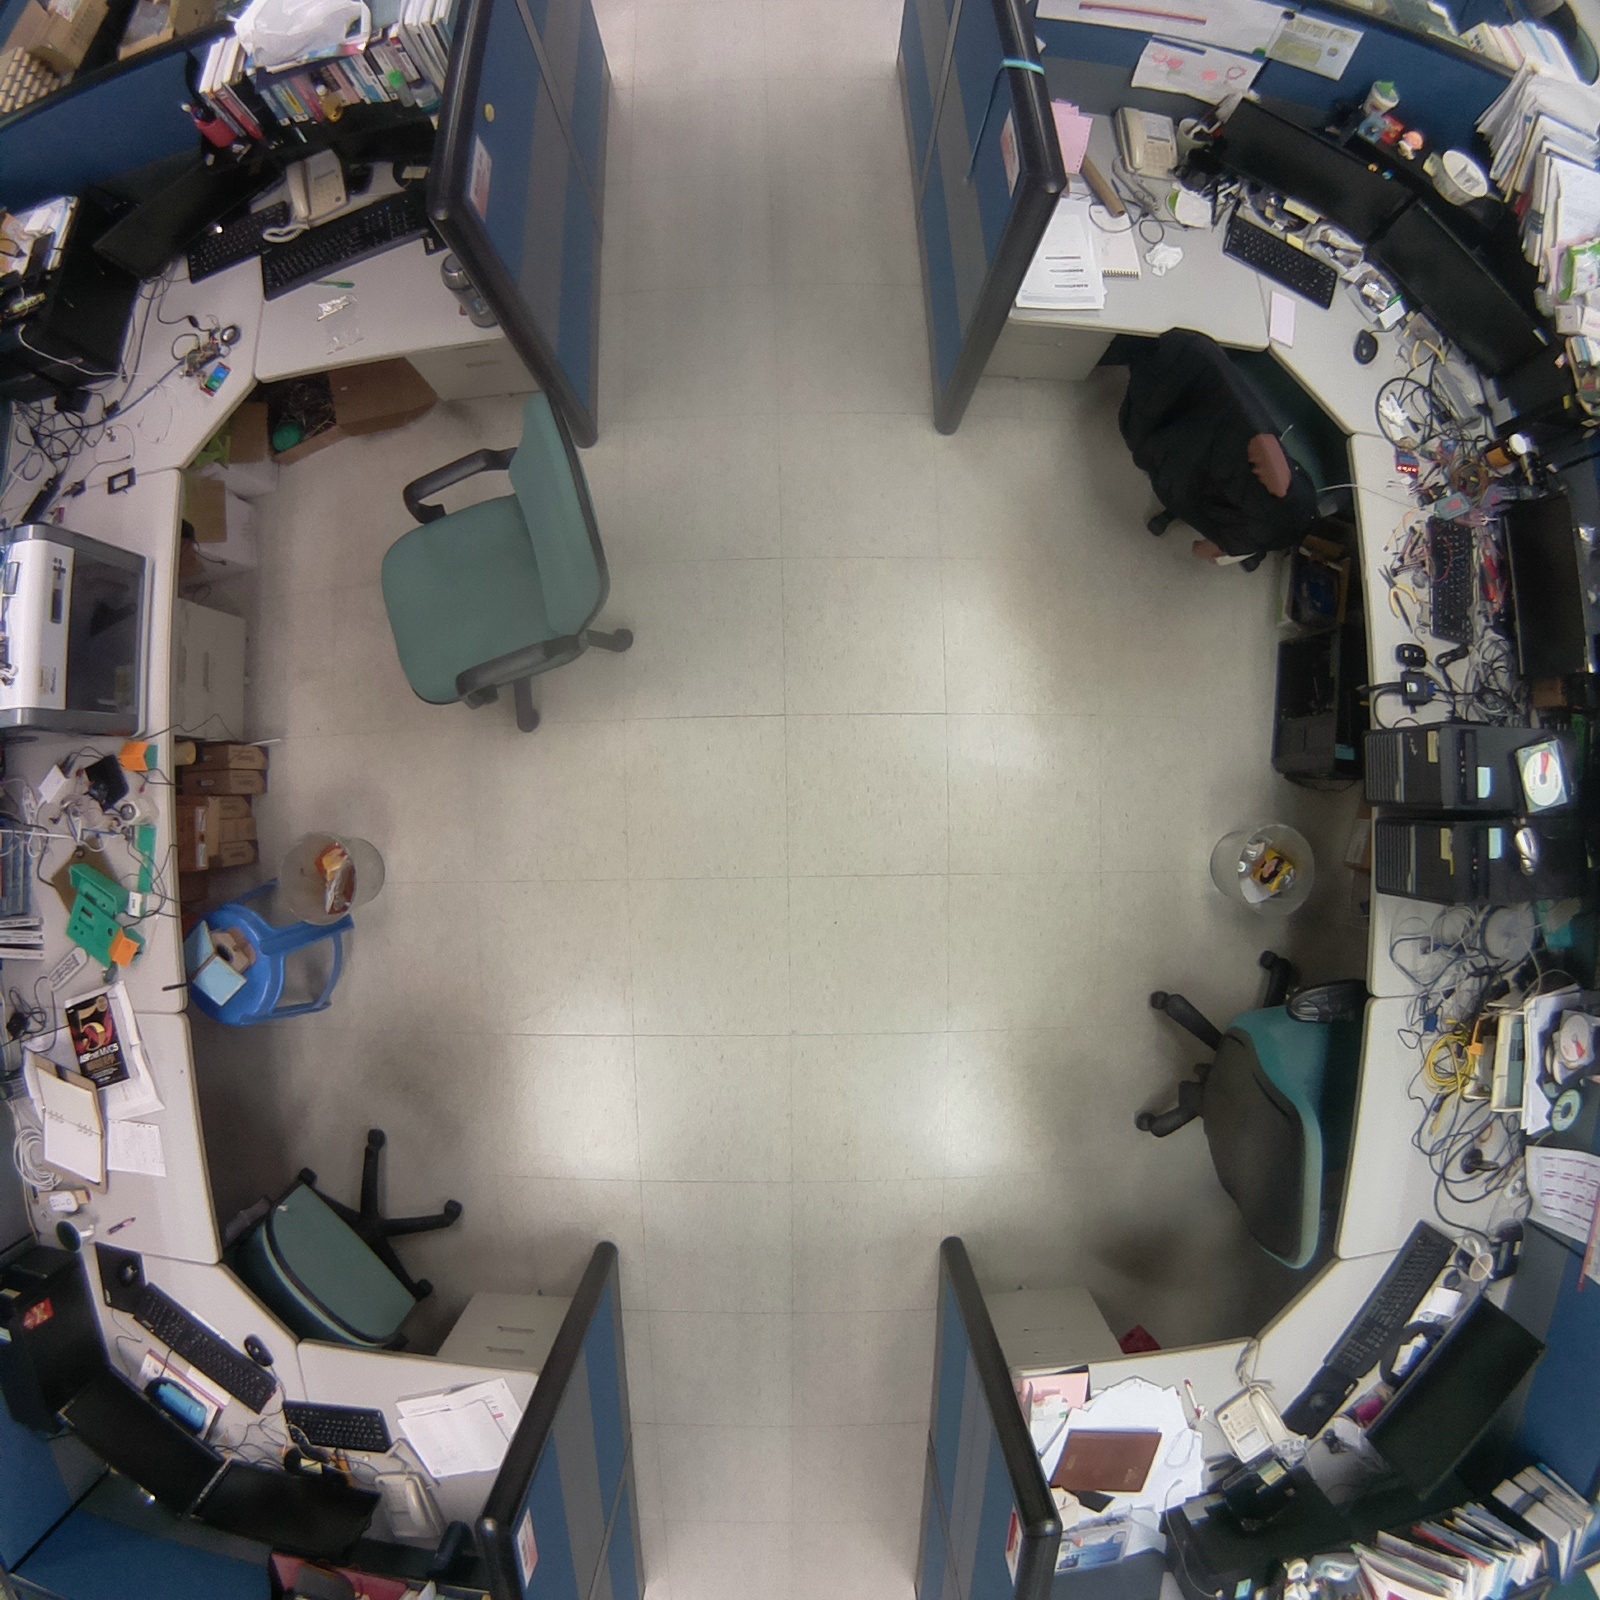chair: (352, 378, 661, 755), (1122, 930, 1368, 1284), (1100, 297, 1368, 589), (210, 1103, 488, 1371)
